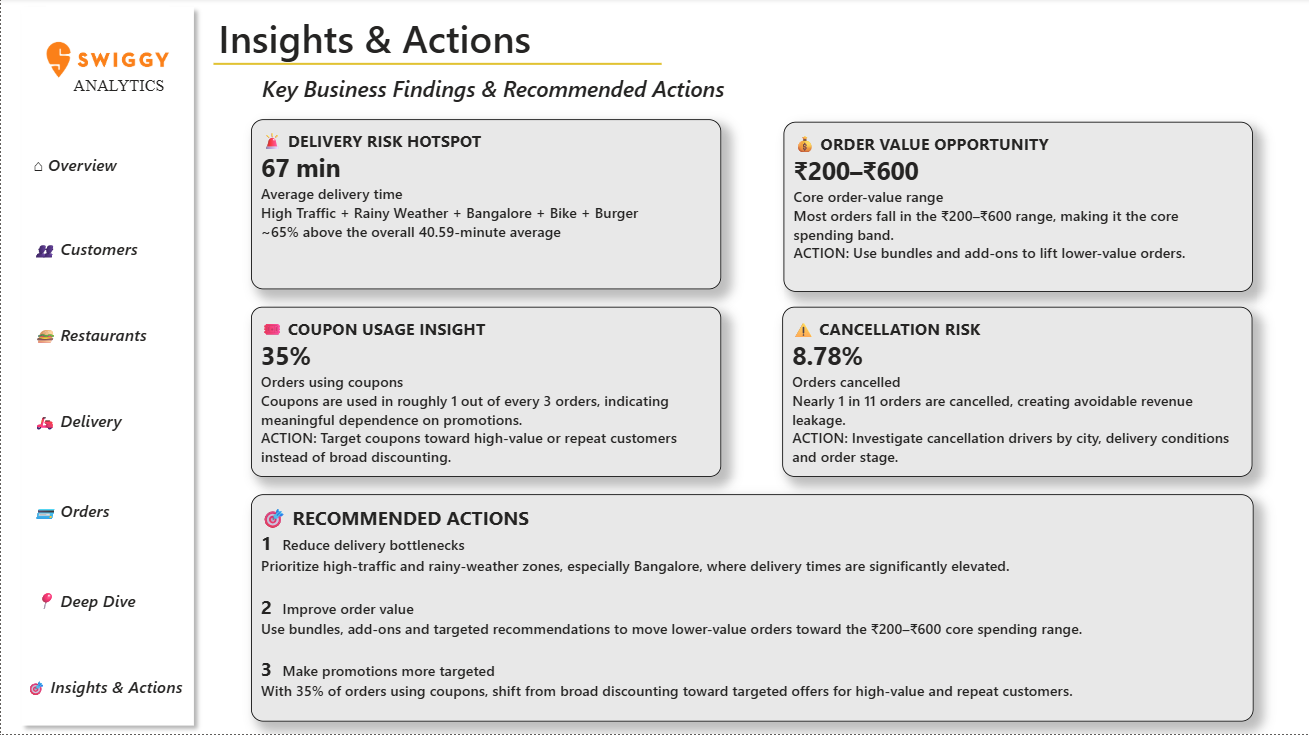

What the dashboard file says about the page in this screenshot:
{"tool":"powerbi","page":{"name":"Insights & Actions","canvas":[1280,720],"ordinal":6},"visuals":[{"type":"shape","box":[11,0,186.6,720.4],"z":0},{"type":"image","box":[0,0,208.6,120.8],"z":1000},{"type":"textbox","box":[65.9,72.7,101.5,35.7],"z":2000},{"type":"textbox","box":[27.4,146.8,116.6,31.6],"z":3000},{"type":"textbox","box":[27.4,229.2,119.4,31.6],"z":4000},{"type":"textbox","box":[27.4,312.9,123.5,34.3],"z":5000},{"type":"textbox","box":[27.4,397.9,105.7,37],"z":6000},{"type":"textbox","box":[27.4,485.8,98.8,38.4],"z":7000},{"type":"textbox","box":[27.4,573.6,115.3,38.4],"z":8000},{"type":"textbox","box":[20.6,657.3,166,32.9],"z":9000},{"type":"textbox","box":[208.3,8.3,379.2,63.9],"z":10000},{"type":"shape","box":[208.3,50,438.6,28.6],"z":11000},{"type":"textbox","box":[244.3,68.6,470.7,49.4],"z":12000},{"type":"textbox","box":[244.3,118,459.7,166],"z":13000},{"type":"textbox","box":[765.7,120.8,459,166],"z":14000},{"type":"textbox","box":[244.3,301.9,459.7,166],"z":15000},{"type":"textbox","box":[764.3,301.9,459.7,166],"z":16000},{"type":"textbox","box":[244.3,485.8,981.1,222.3],"z":17000},{"type":"actionButton","box":[26.1,142.7,100,40],"z":17001},{"type":"actionButton","box":[27.4,225,116.6,39.8],"z":17002},{"type":"actionButton","box":[27.4,307.4,123.5,39.8],"z":17003},{"type":"actionButton","box":[27.4,395.2,100,40],"z":17004},{"type":"actionButton","box":[26.1,484.4,100,40],"z":17005},{"type":"actionButton","box":[37,572.2,107,39.8],"z":17006}]}

Visuals, with their boxes in screenshot pixels (x1, y1, x2, y2), scaled from the page's 1280x720 canvas onto the 1309x735 screenshot:
shape: x1=11 y1=0 x2=202 y2=734
image: x1=0 y1=0 x2=213 y2=123
textbox: x1=67 y1=74 x2=171 y2=111
textbox: x1=28 y1=150 x2=147 y2=182
textbox: x1=28 y1=234 x2=150 y2=266
textbox: x1=28 y1=319 x2=154 y2=354
textbox: x1=28 y1=406 x2=136 y2=444
textbox: x1=28 y1=496 x2=129 y2=535
textbox: x1=28 y1=586 x2=146 y2=625
textbox: x1=21 y1=671 x2=191 y2=705
textbox: x1=213 y1=8 x2=601 y2=74
shape: x1=213 y1=51 x2=662 y2=80
textbox: x1=250 y1=70 x2=731 y2=120
textbox: x1=250 y1=120 x2=720 y2=290
textbox: x1=783 y1=123 x2=1252 y2=293
textbox: x1=250 y1=308 x2=720 y2=478
textbox: x1=782 y1=308 x2=1252 y2=478
textbox: x1=250 y1=496 x2=1253 y2=723
actionButton: x1=27 y1=146 x2=129 y2=187
actionButton: x1=28 y1=230 x2=147 y2=270
actionButton: x1=28 y1=314 x2=154 y2=354
actionButton: x1=28 y1=403 x2=130 y2=444
actionButton: x1=27 y1=494 x2=129 y2=535
actionButton: x1=38 y1=584 x2=147 y2=625
